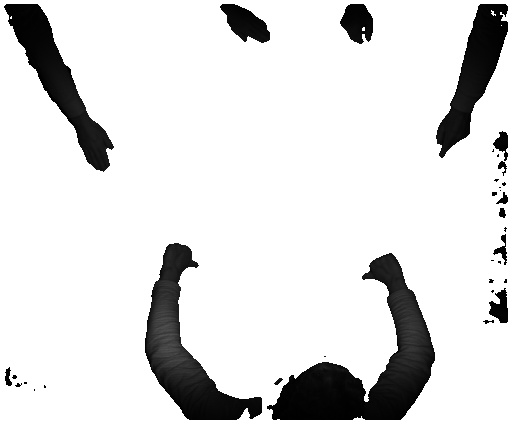hand: (80, 124, 119, 175), (360, 248, 405, 292), (432, 115, 471, 159), (229, 8, 271, 47), (162, 240, 199, 281), (336, 9, 375, 47)
